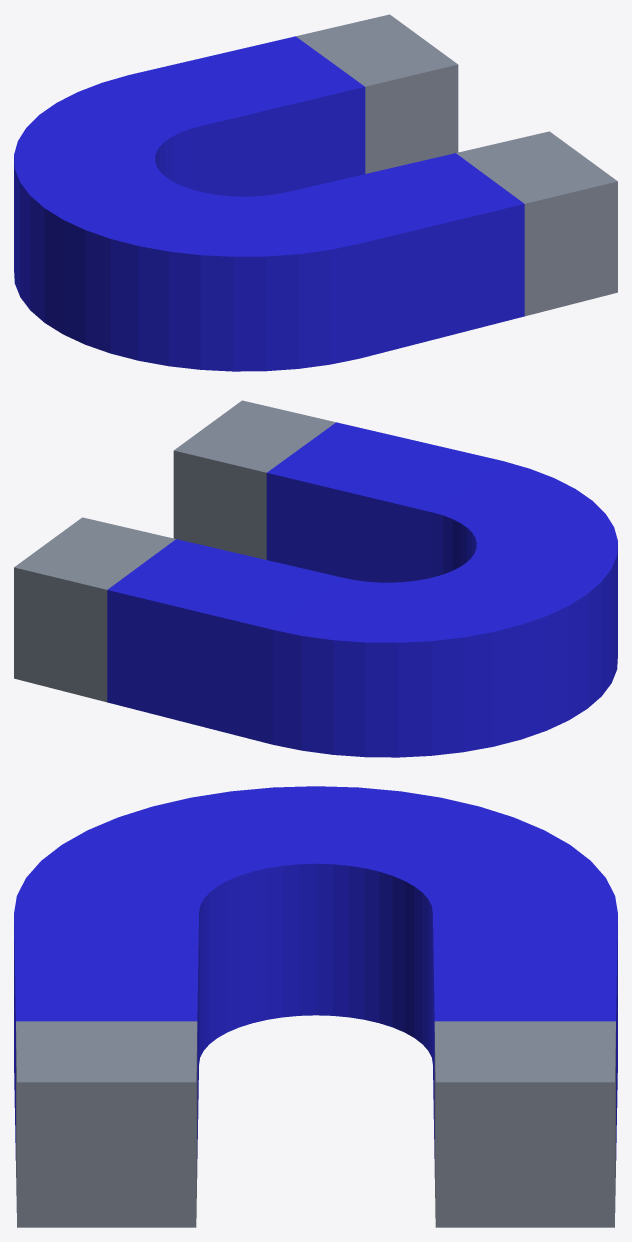
Rendered from powerup-magnet-attract.fbx.
3 renders of one model, top to bottom at view 1: azimuth 30°, elevation 25°; view 2: azimuth 150°, elevation 25°; view 3: azimuth 270°, elevation 25°, orthographic. The views are drawn at different scales.
Visible parts, largest first — view 1: magnet-red.001; view 2: magnet-red.001; view 3: magnet-red.001.
Part boxes in pixels (left/top/right/bottom): magnet-red.001: left=14, top=14, right=617, bottom=371; magnet-red.001: left=14, top=400, right=617, bottom=757; magnet-red.001: left=14, top=786, right=617, bottom=1227.
Bounding box in the file's own units: 33.71 × 8.12 × 29.31.
